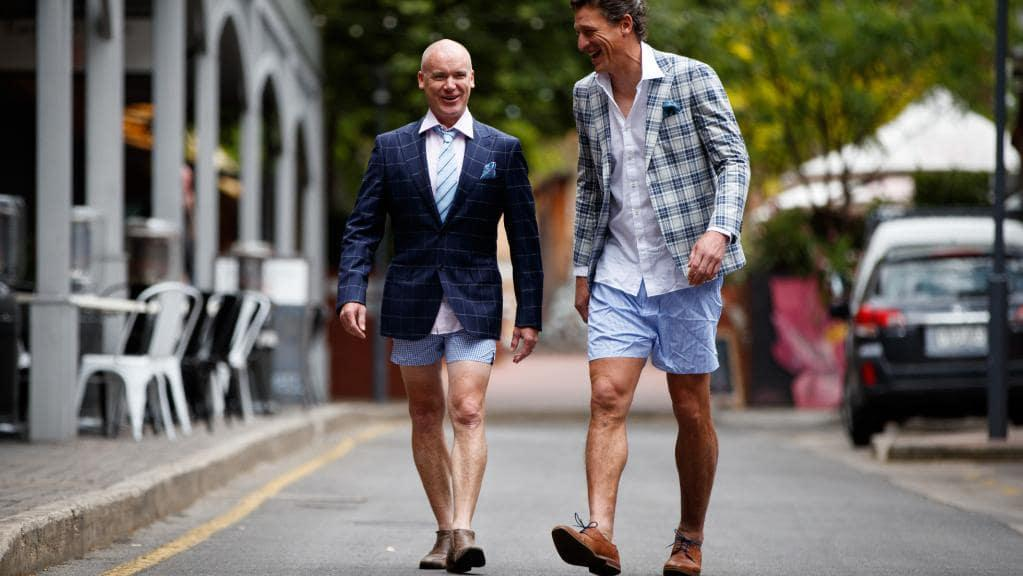Person: (552, 1, 752, 576), (338, 33, 544, 576)
